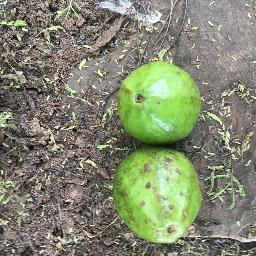Good_guava: (112, 148, 203, 245), (112, 51, 206, 144)
